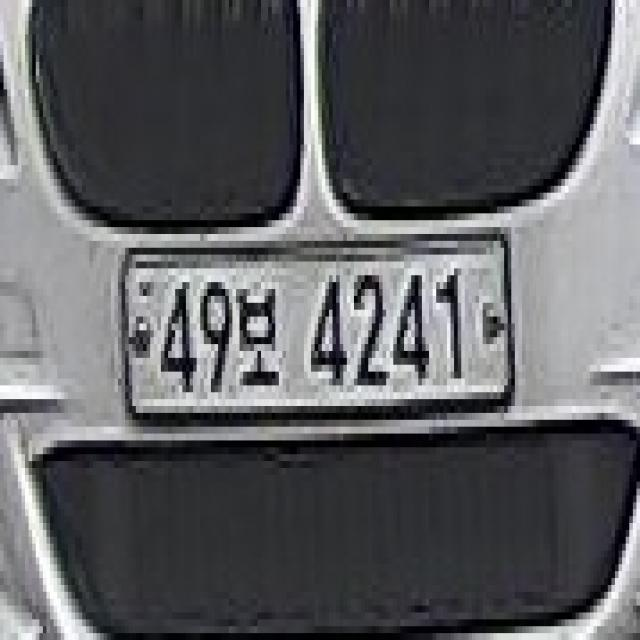1: (436, 266, 468, 392)
2: (352, 270, 392, 406)
4: (304, 264, 351, 402), (155, 277, 200, 413), (395, 267, 432, 392)
9: (199, 274, 232, 406)
bo: (235, 276, 285, 398)
license_plate: (104, 218, 518, 426)
